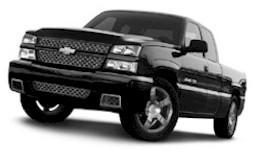car: (9, 9, 249, 142)
